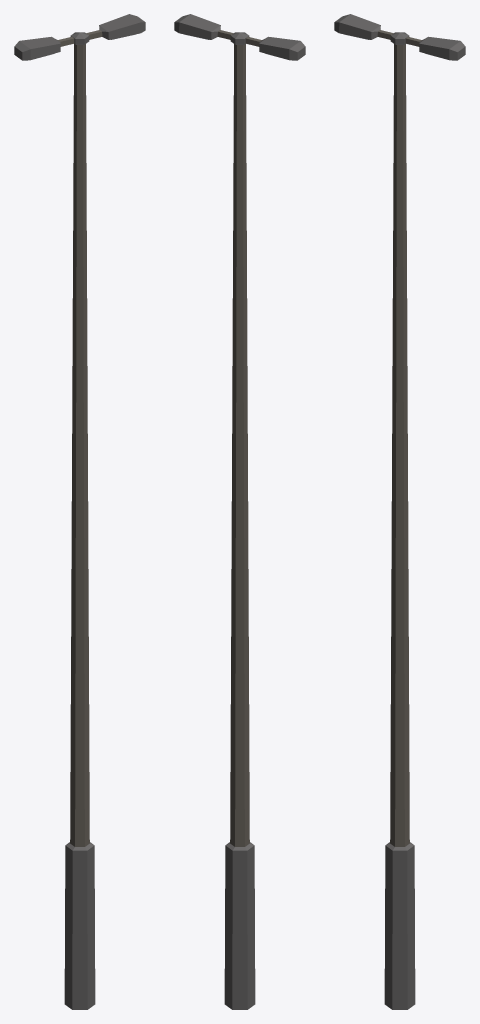
The model's file is SM_Env_Road_Lights_01.fbx.
3 renders of one model, left to right at view 1: azimuth 30°, elevation 25°; view 2: azimuth 150°, elevation 25°; view 3: azimuth 330°, elevation 25°, orthographic.
Parts seen in each view (by area): view 1: SM_Env_Road_Lights_01; view 2: SM_Env_Road_Lights_01; view 3: SM_Env_Road_Lights_01.
Part boxes in pixels (<box>): SM_Env_Road_Lights_01: <box>14,14,145,1009</box>; SM_Env_Road_Lights_01: <box>174,14,305,1009</box>; SM_Env_Road_Lights_01: <box>334,14,465,1009</box>.
Size of the model in its own units: 142 by 1068 by 30.48.
